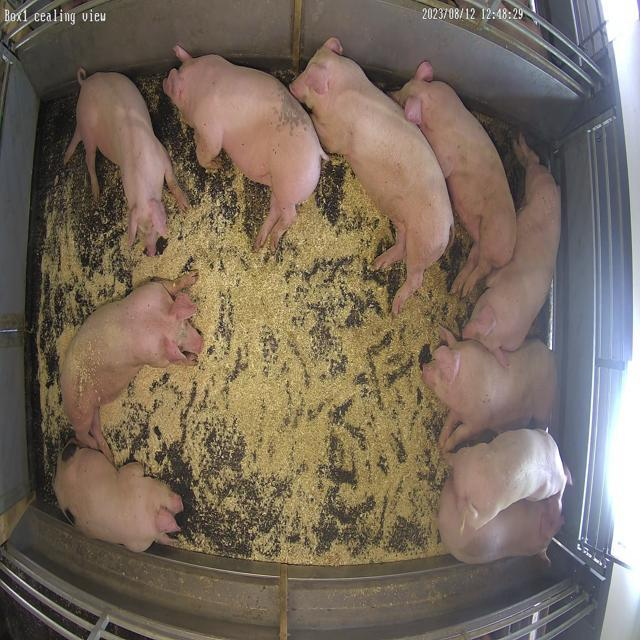Dirt: (425, 218, 479, 336), (474, 110, 526, 210), (127, 70, 167, 114), (538, 141, 552, 166)
Pig: (290, 37, 454, 314), (163, 44, 327, 248), (394, 61, 517, 296), (60, 272, 203, 460), (464, 135, 562, 364), (65, 69, 178, 252), (423, 330, 557, 453), (54, 444, 183, 553), (447, 429, 568, 530), (439, 480, 564, 565)
